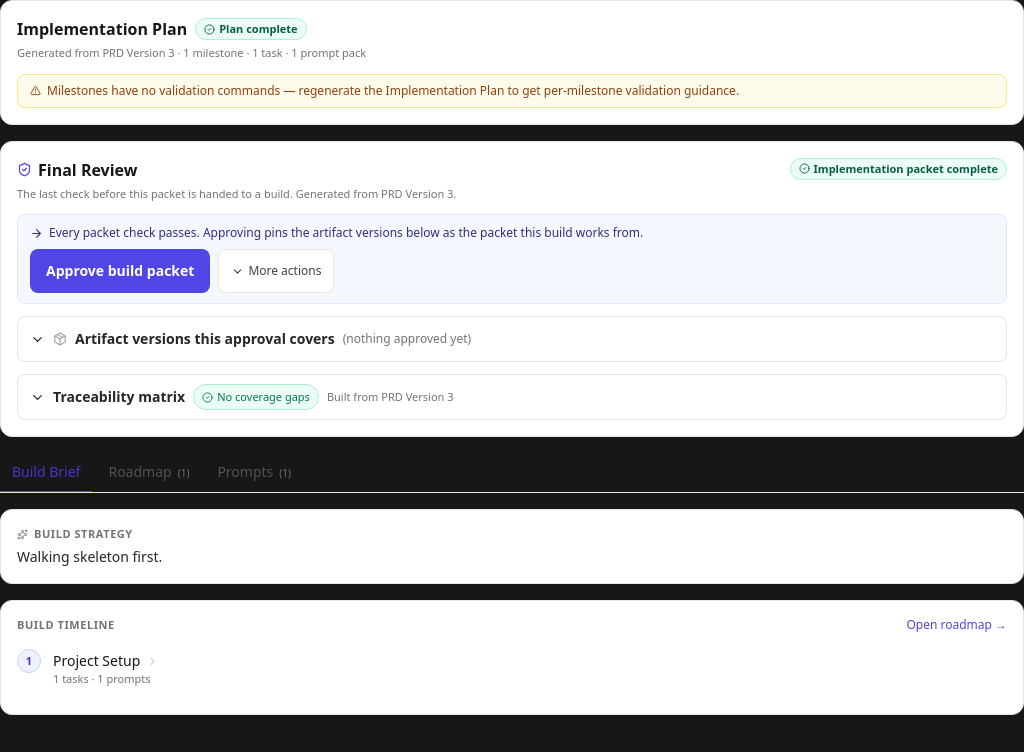
Final Review — folded-in surfaces › keeps the traceability matrix reachable as an expandable detail
The width and height of the screenshot is (1024, 752).
Expected: the text "Change Impact" is not shown
Click the button with test id "final-review-coverage-toggle". click: (119, 396)
box: x1=18 y1=375 x2=1006 y2=419
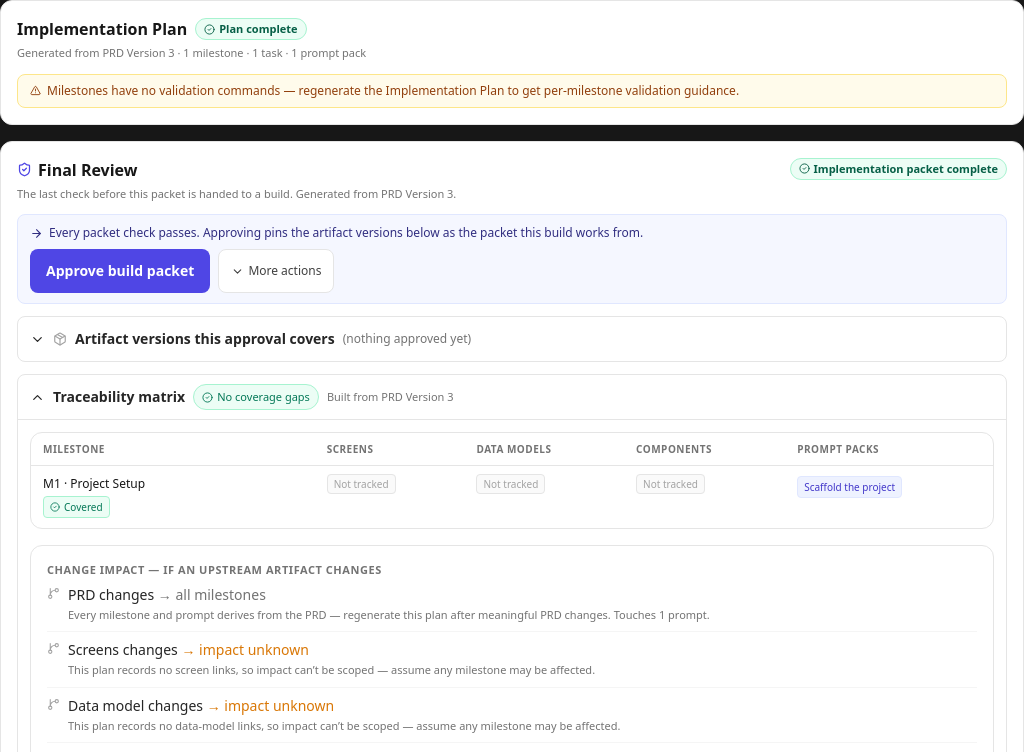
Now the button with test id "final-review-coverage-toggle" is expanded, box x1=18 y1=375 x2=1006 y2=419
Now the text "Change Impact — if an upstream artifact changes" is shown, box x1=47 y1=562 x2=382 y2=577
